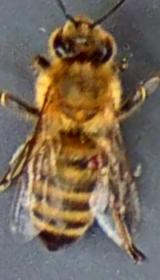varroa_mite: (78, 145, 116, 172)
